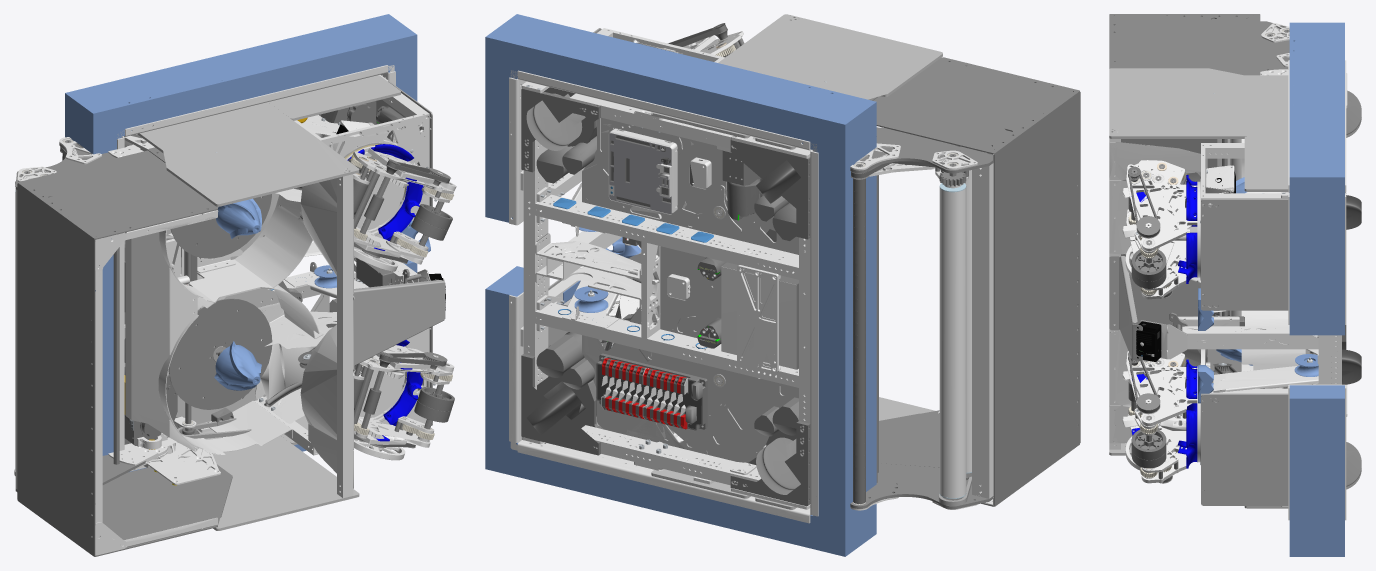
The model's file is 1706(2026)SimpleSoft.fbx.
The picture shows the model from 3 angles, left to right: view 1: azimuth 30°, elevation 25°; view 2: azimuth 150°, elevation 25°; view 3: azimuth 270°, elevation 25°; orthographic projection. The views are drawn at different scales.
Visible parts, largest first — view 1: C-RB-20-114_HOPPER_FRONT, Part 5.001, Left Hopper, C-RB-20-113_HOPPER_SIDE, Part 25, Left Hopper-Mirrored, C-RB-20-113_HOPPER_SIDE.001, RB-70-FOREHEAD.001, Part 15, RB-70-101, Part 16, Part 13 (+42 smaller); view 2: Part 5.001, C-RB-20-114_HOPPER_FRONT, RB-70-105, C-RB-20-113_HOPPER_SIDE, Left Hopper, C-RB-20-105_TUBE_ROLLER_BOTTOM, C-RB-20-103_BAR_BASH, Block Thrifty Swerve Narrow A.001, Block Thrifty Swerve Narrow B.001, A-RB-10-005-LEFT CROSSBAR, Simplified PDP 2.0, Block Thrifty Swerve Narrow B (+29 smaller); view 3: Part 5.001, Left Hopper, Part 20, Part 21, C-RB-20-113_HOPPER_SIDE, Part 15, Part 2, Part 22, RB-50-105, RB-50-105.001, Part 16, Part 13.001 (+42 smaller).
Part boxes in pixels (x1,y1,x2,y2): C-RB-20-114_HOPPER_FRONT: (17,183,95,555); Part 5.001: (65,14,417,471); Left Hopper: (137,102,359,206); C-RB-20-113_HOPPER_SIDE: (17,150,218,239); Part 25: (125,230,197,451); Left Hopper-Mirrored: (167,429,359,530); C-RB-20-113_HOPPER_SIDE.001: (17,464,232,556); RB-70-FOREHEAD.001: (168,298,272,409); Part 15: (300,178,353,488); RB-70-101: (159,194,312,302); Part 16: (353,279,445,371); Part 13: (337,175,353,497); Part 5.001: (485,14,876,556); C-RB-20-114_HOPPER_FRONT: (993,92,1080,505); RB-70-105: (582,117,798,462); C-RB-20-113_HOPPER_SIDE: (873,57,1079,154); Left Hopper: (651,14,942,149); C-RB-20-105_TUBE_ROLLER_BOTTOM: (939,187,966,498); C-RB-20-103_BAR_BASH: (972,164,993,497); Block Thrifty Swerve Narrow A.001: (521,332,603,455); Block Thrifty Swerve Narrow B.001: (521,87,600,183); A-RB-10-005-LEFT CROSSBAR: (536,194,798,279); Simplified PDP 2.0: (596,353,707,430); Block Thrifty Swerve Narrow B: (730,397,810,506); Part 5.001: (1289,22,1344,556); Left Hopper: (1109,68,1288,138); Part 20: (1201,394,1288,505); Part 21: (1201,199,1288,310); C-RB-20-113_HOPPER_SIDE: (1109,14,1260,75); Part 15: (1109,142,1207,443); Part 2: (1182,326,1318,349); Part 22: (1244,136,1288,191); RB-50-105: (1130,184,1197,251); RB-50-105.001: (1130,367,1197,426); Part 16: (1109,256,1142,361); Part 13.001: (1241,310,1305,371).
Bounding box in the file's own units: 102 × 91.44 × 55.09.
